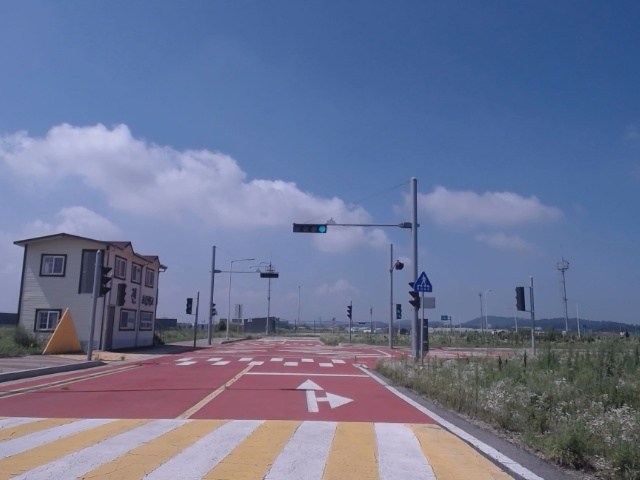straight_green_4: (293, 224, 326, 232)
